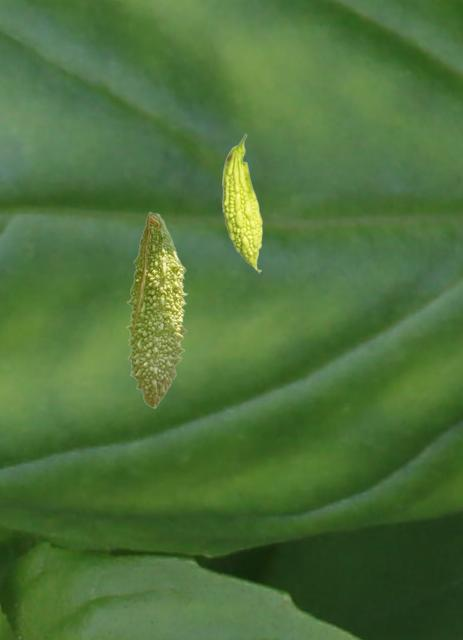ampalaya: (123, 211, 188, 409), (220, 133, 263, 274)
